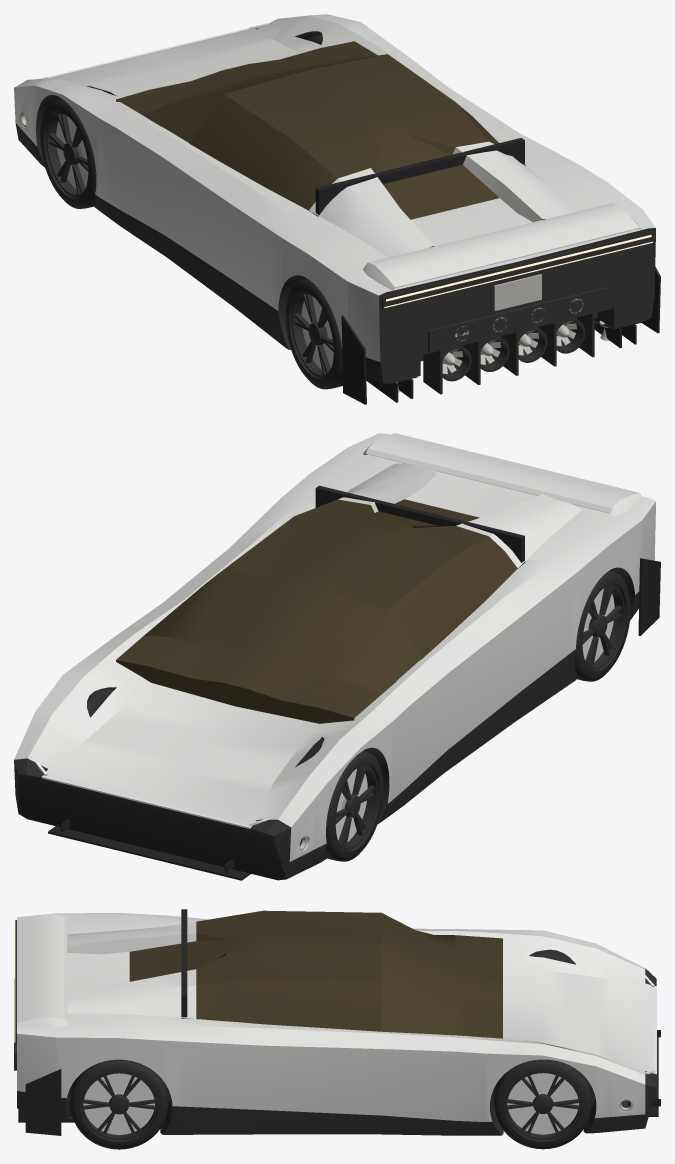
File: SM_DST_Vehicle_Roadster.fbx
The picture shows the model from 3 angles, top to bottom: view 1: azimuth 30°, elevation 25°; view 2: azimuth 150°, elevation 25°; view 3: azimuth 270°, elevation 25°; orthographic projection. The views are drawn at different scales.
Visible parts, largest first — view 1: RD_Chassis, RD_Wing, RD_Wheel_RL, RD_Wheel_FL, RD_TailLamp; view 2: RD_Chassis, RD_Wing, RD_Wheel_FL, RD_Wheel_RL, RD_HeadLamp; view 3: RD_Chassis, RD_Wheel_RR, RD_Wheel_FR, RD_Wing.
Boxes of the visible parts, x1,y1,x2,y2 form: RD_Chassis: (14,14,660,404); RD_Wing: (363,203,641,290); RD_Wheel_RL: (285,278,342,389); RD_Wheel_FL: (40,98,96,208); RD_TailLamp: (384,235,652,307); RD_Chassis: (14,433,660,880); RD_Wing: (363,433,641,515); RD_Wheel_FL: (318,750,383,861); RD_Wheel_RL: (575,570,630,681); RD_HeadLamp: (41,776,251,828); RD_Chassis: (14,909,660,1135); RD_Wheel_RR: (70,1059,167,1149); RD_Wheel_FR: (494,1059,591,1149); RD_Wing: (17,914,67,1027).
Bounding box in the file's own units: 2.01 × 1.1 × 4.37.
